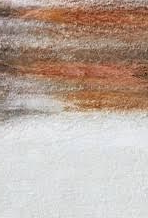Corrosion: (1, 1, 148, 124)
